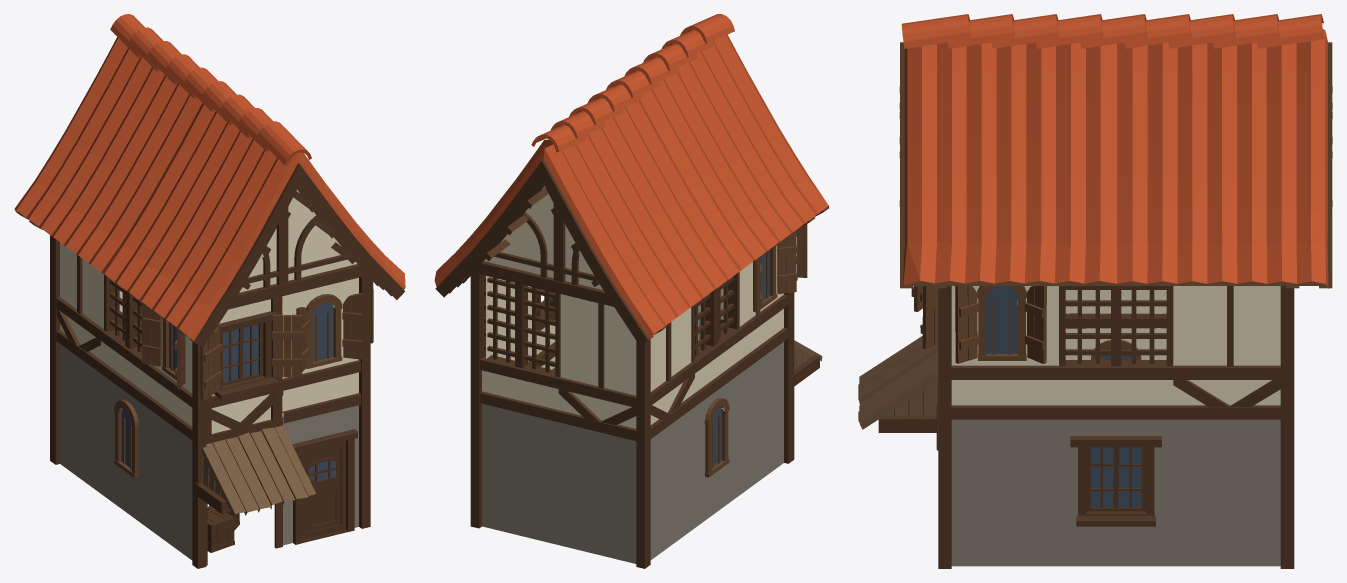
The model's file is shop_corner.obj.
3 views of the same model, side by side, from view 1: azimuth 30°, elevation 25°; view 2: azimuth 150°, elevation 25°; view 3: azimuth 270°, elevation 25° (orthographic). The views are drawn at different scales.
Bounding box in the file's own units: 5.51 × 9.73 × 8.31.
